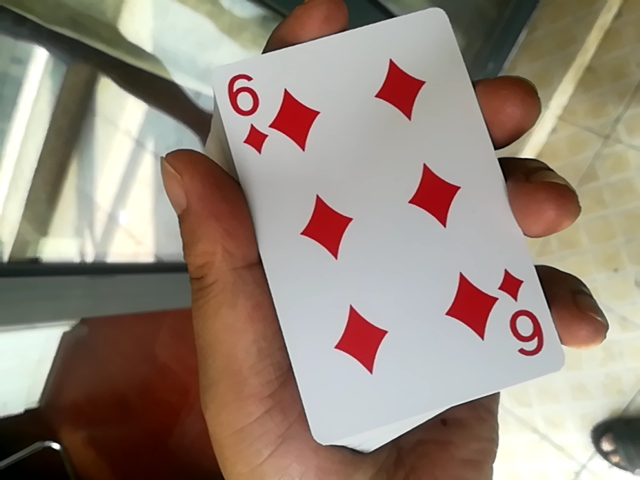fk 6: (193, 9, 547, 452)
